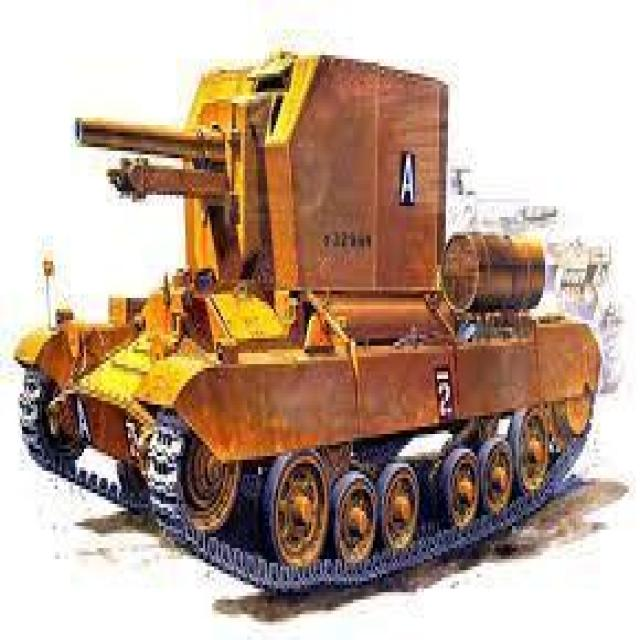Tanks: (20, 17, 574, 616)
